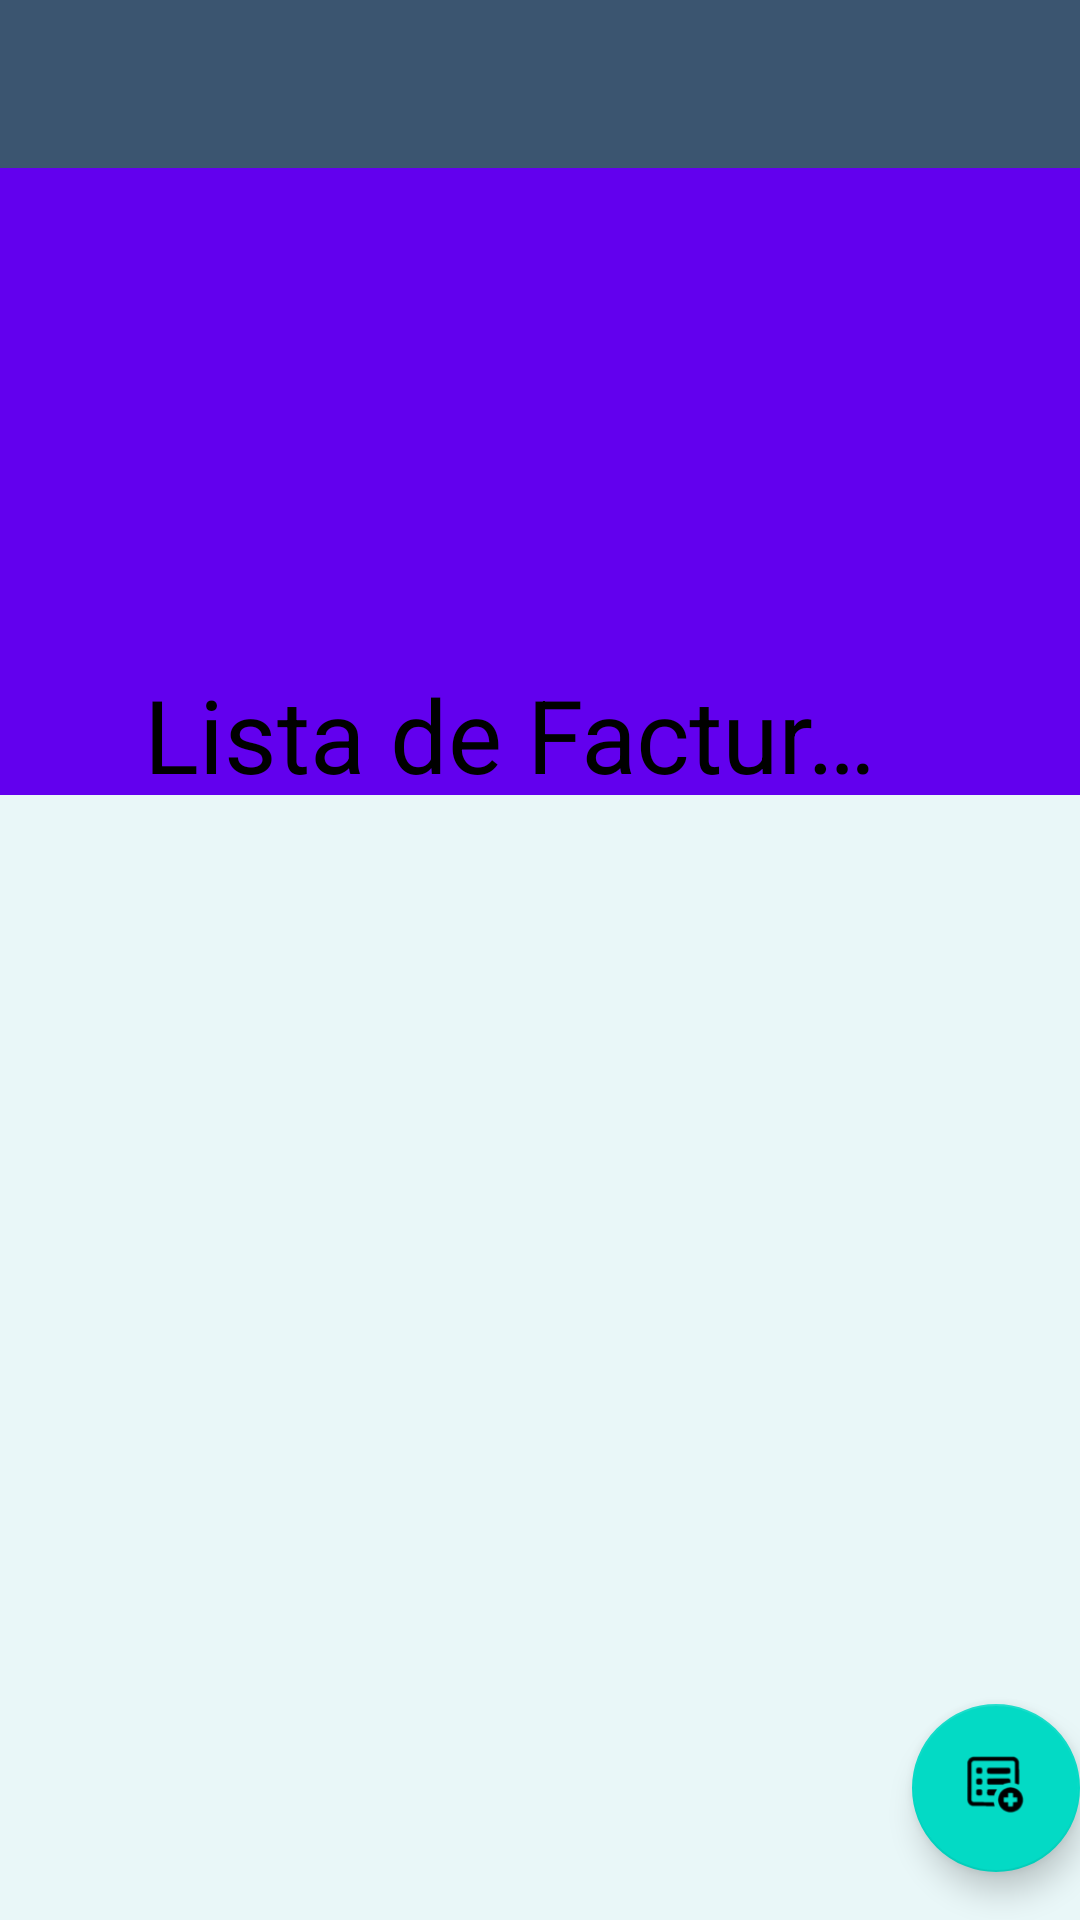

Named icons in this screenshot (1080px x 1920px) and their bounding boxes, {"left": x1, "top": y1, "right": x2, "bottom": y2}:
nuevo pedido: {"left": 912, "top": 1704, "right": 1080, "bottom": 1872}
